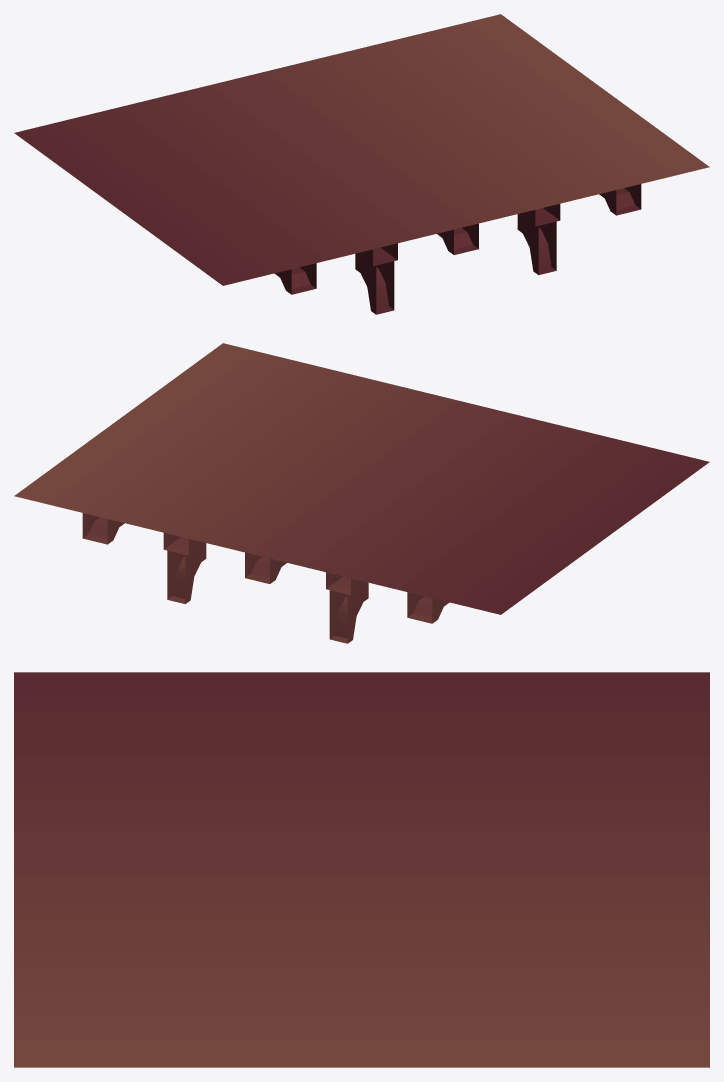
Rendered from Ceiling.fbx.
3 renders of one model, top to bottom at view 1: azimuth 30°, elevation 25°; view 2: azimuth 150°, elevation 25°; view 3: azimuth 270°, elevation 25°, orthographic. The views are drawn at different scales.
Visible parts, largest first — view 1: Ceiling_GEO_adjusted; view 2: Ceiling_GEO_adjusted; view 3: Ceiling_GEO_adjusted.
Boxes of the visible parts, x1,y1,x2,y2 form: Ceiling_GEO_adjusted: (14, 14, 709, 314); Ceiling_GEO_adjusted: (14, 343, 709, 643); Ceiling_GEO_adjusted: (14, 672, 709, 1067).
Bounding box in the file's own units: 390 × 50.72 × 290.
